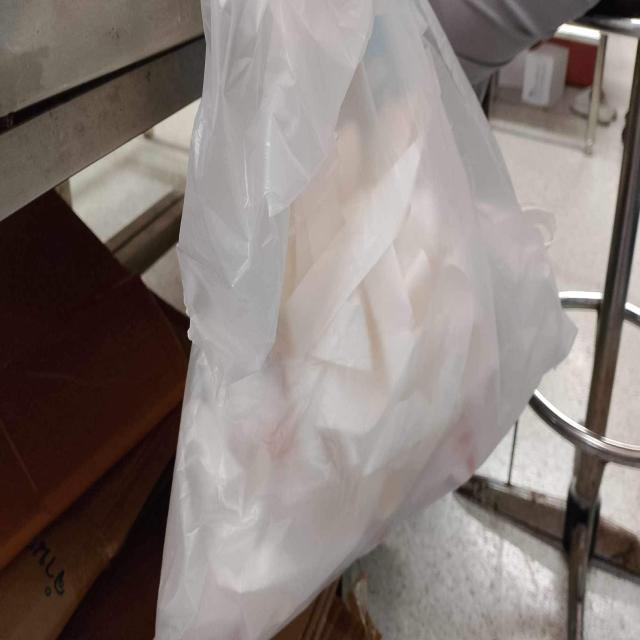Infectious: (151, 0, 578, 638)
